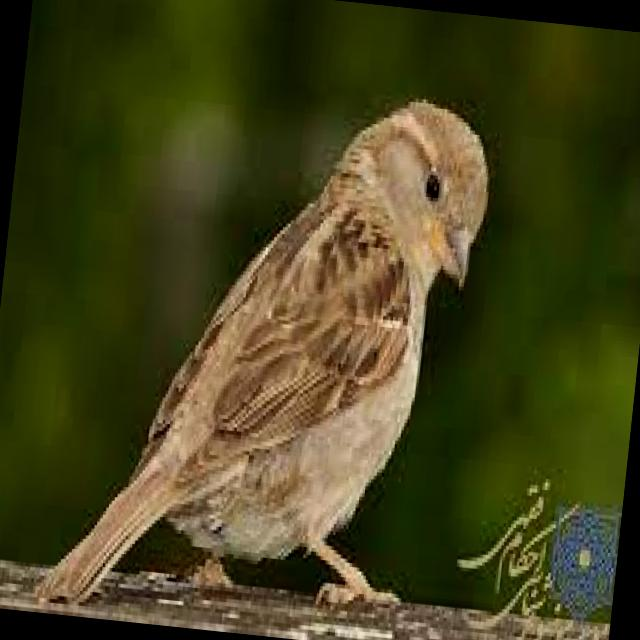bird: (30, 44, 503, 640)
